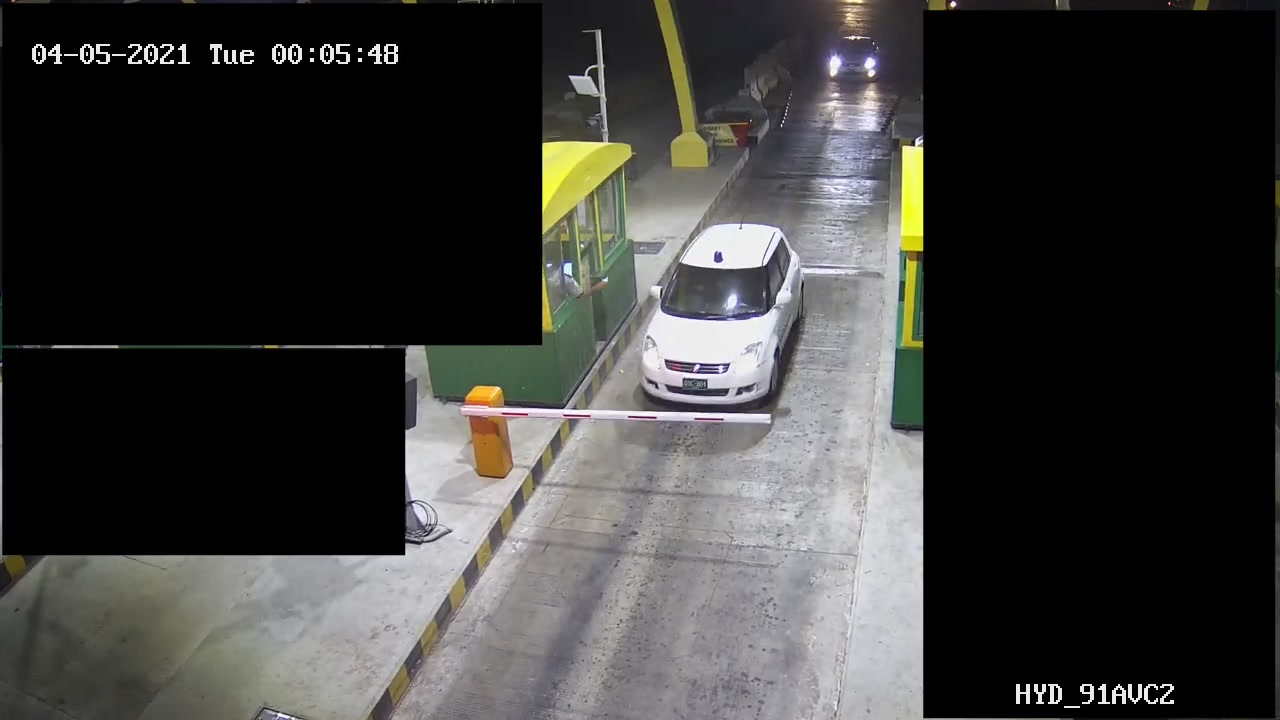F1: (633, 217, 809, 407)
